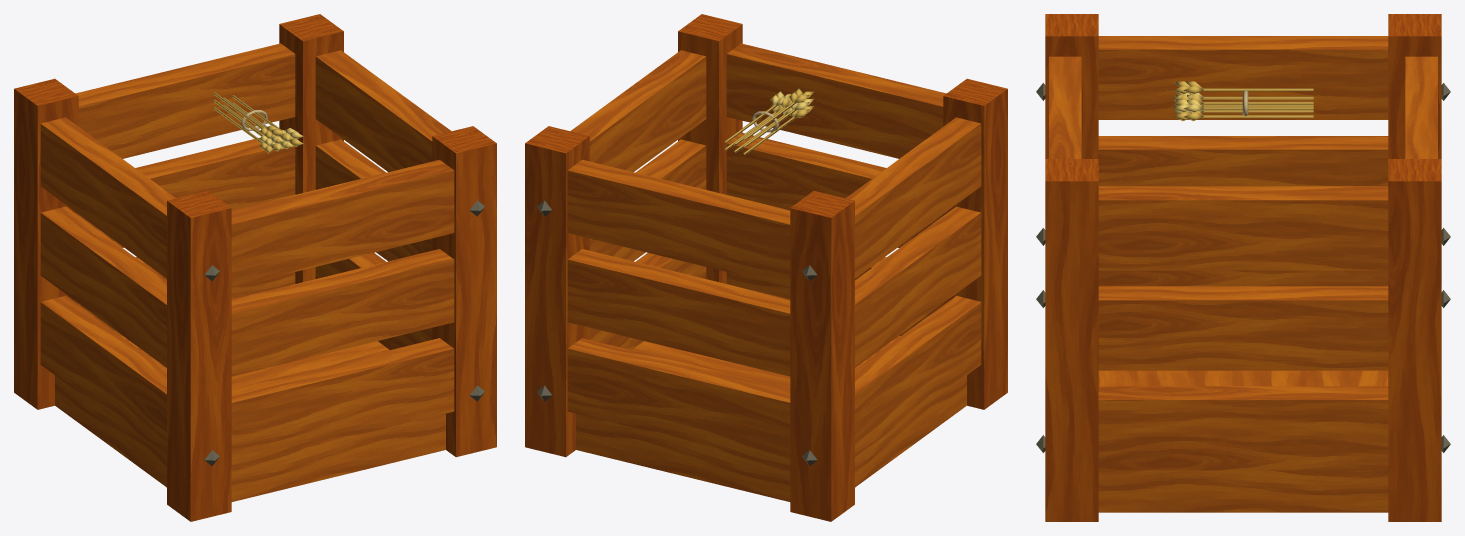
File: farm-collection-box-2.gltf
The picture shows the model from 3 angles, left to right: view 1: azimuth 30°, elevation 25°; view 2: azimuth 150°, elevation 25°; view 3: azimuth 270°, elevation 25°; orthographic projection. The views are drawn at different scales.
Visible parts, largest first — view 1: farm-collection-box-2; view 2: farm-collection-box-2; view 3: farm-collection-box-2.
Part boxes in pixels (left/top/right/bottom): farm-collection-box-2: left=14, top=14, right=496, bottom=521; farm-collection-box-2: left=525, top=14, right=1007, bottom=521; farm-collection-box-2: left=1036, top=14, right=1450, bottom=521.
Bounding box in the file's own units: 0.8002 × 0.7796 × 0.8382.
2 materials, 1 textured.
